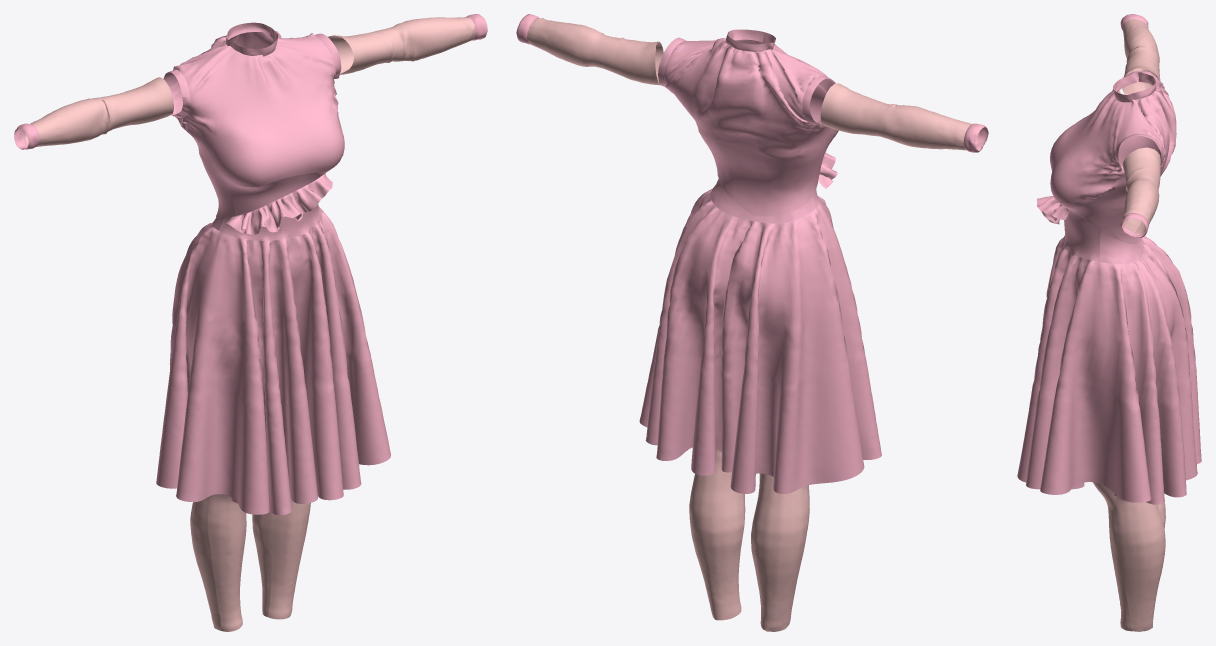
File: G_pink_dress.glb
The picture shows the model from 3 angles, left to right: view 1: azimuth 30°, elevation 25°; view 2: azimuth 150°, elevation 25°; view 3: azimuth 270°, elevation 25°; orthographic projection. The views are drawn at different scales.
Parts seen in each view (by area): view 1: Garment; view 2: Garment; view 3: Garment.
Part boxes in pixels (x1,y1,x2,y2): Garment: [14, 14, 487, 631]; Garment: [516, 14, 988, 631]; Garment: [1017, 14, 1201, 631].
Size of the model in its own units: 1.09 by 1.33 by 0.4139.
Materials: 1 (1 with a texture image).
